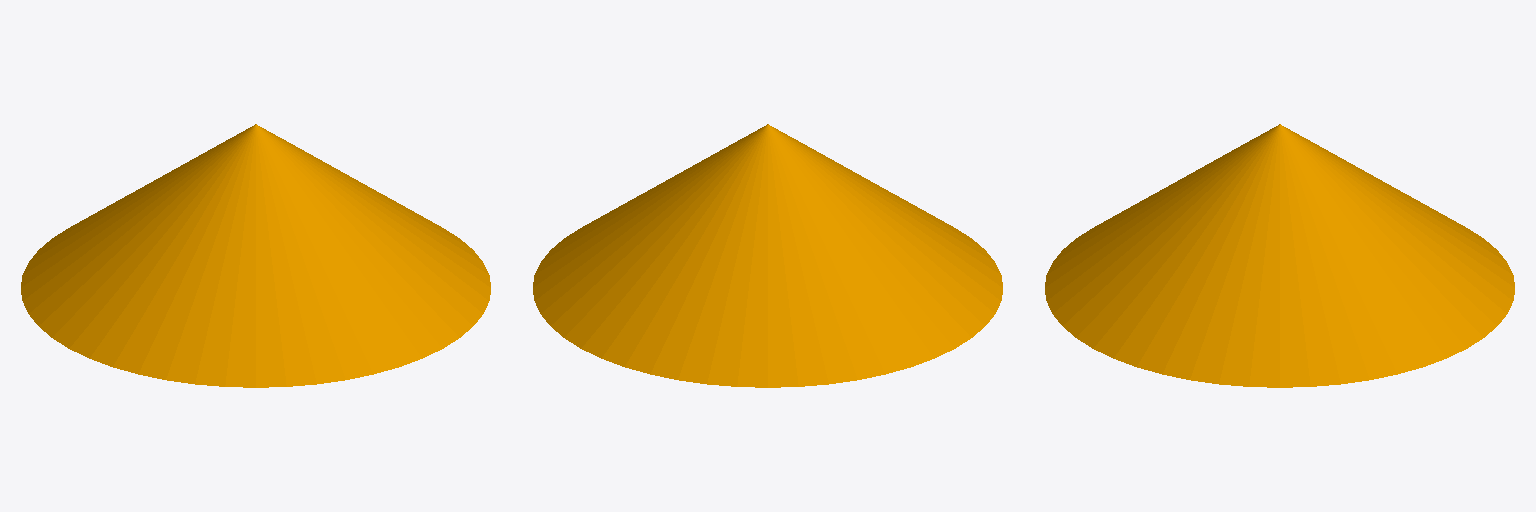
URDF robot description (object):
<?xml version="1.0"?>
<!-- Auto-generated by tools/gen_primitive_objects.py. kind=cone dims=(0.065, 0.05) -->
<robot name="object">
  <link name="object">
    <visual>
      <origin xyz="0 0 0"/>
      <geometry>
        <mesh filename="obj_1.stl"/>
      </geometry>
    </visual>
    <collision>
      <origin xyz="0 0 0"/>
      <geometry>
        <mesh filename="obj_1.stl"/>
      </geometry>
    </collision>
    <inertial>
      <origin xyz="0 0 -0.012500"/>
      <mass value="0.044244"/>
      <inertia ixx="0.00003219" ixy="0.0" ixz="0.0" iyy="0.00003219" iyz="0.0" izz="0.00005608"/>
    </inertial>
  </link>
</robot>

--- What the picture shows (computed from the rendered views, not written in the file) ---
The picture shows the robot from 3 angles, left to right: view 1: azimuth 30°, elevation 25°; view 2: azimuth 150°, elevation 25°; view 3: azimuth 270°, elevation 25°; orthographic projection.
Model object with 1 links and 0 joints (none), rooted at object, posed every joint at zero.
Links seen in each view (by area): view 1: object; view 2: object; view 3: object.
Boxes of the visible links, x1,y1,x2,y2 form: object: (21,124,490,387); object: (533,124,1002,387); object: (1045,124,1514,387).
Size in the robot's own frame: 0.13 by 0.13 by 0.05 metres.
Meshes: 1 distinct files referenced, 1 mesh visuals loaded (1 binary STL).
